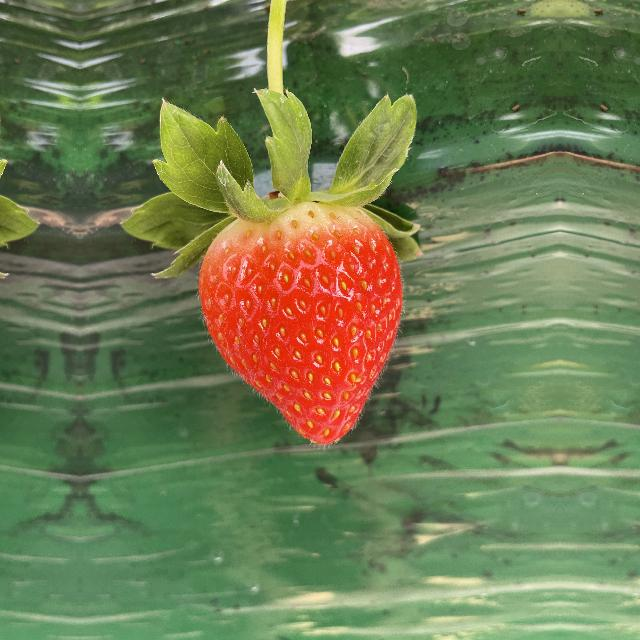Health_100: (192, 204, 418, 450)
